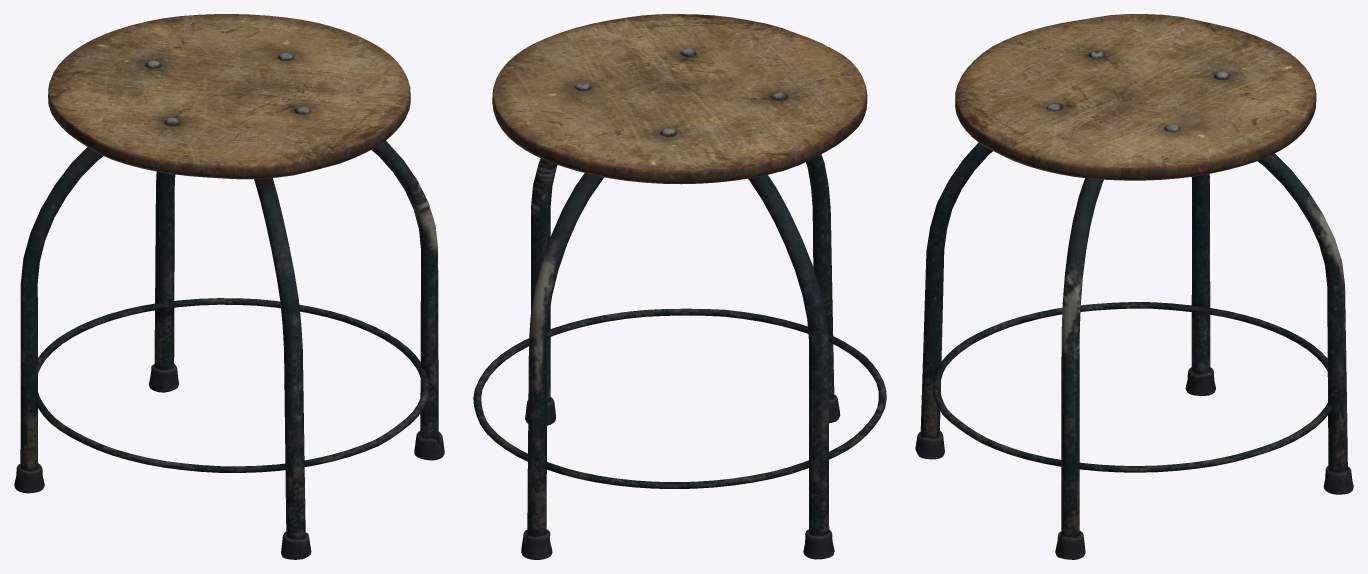
Rendered from metal_stool_02.glb.
3 views of the same model, side by side, from view 1: azimuth 30°, elevation 25°; view 2: azimuth 150°, elevation 25°; view 3: azimuth 270°, elevation 25° (orthographic). The views are drawn at different scales.
Visible parts, largest first — view 1: metal_stool_02; view 2: metal_stool_02; view 3: metal_stool_02.
Part boxes in pixels (<box>): metal_stool_02: <box>14,14,444,559</box>; metal_stool_02: <box>473,14,886,559</box>; metal_stool_02: <box>915,14,1353,559</box>.
Size of the model in its own units: 0.4481 by 0.4581 by 0.4731.
1 material, 1 textured.
